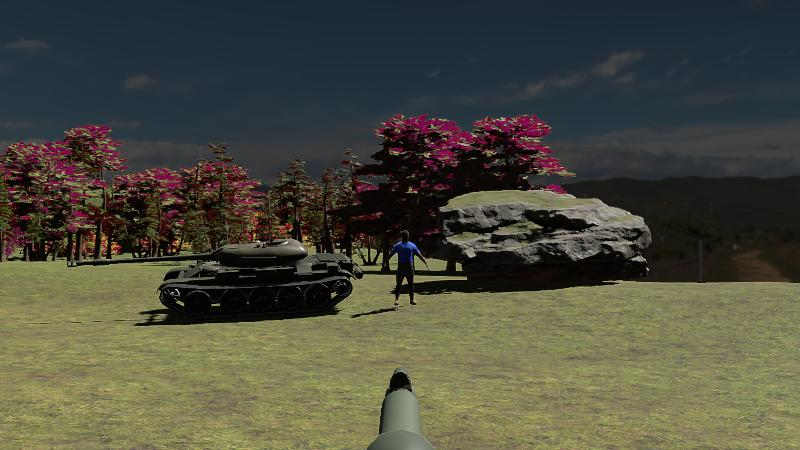Human: (387, 230, 429, 307)
Tank: (87, 238, 360, 319)
